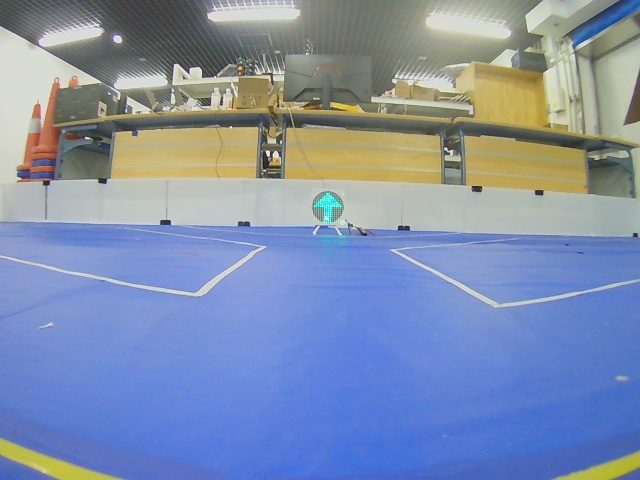straight_green: (312, 191, 344, 224)
